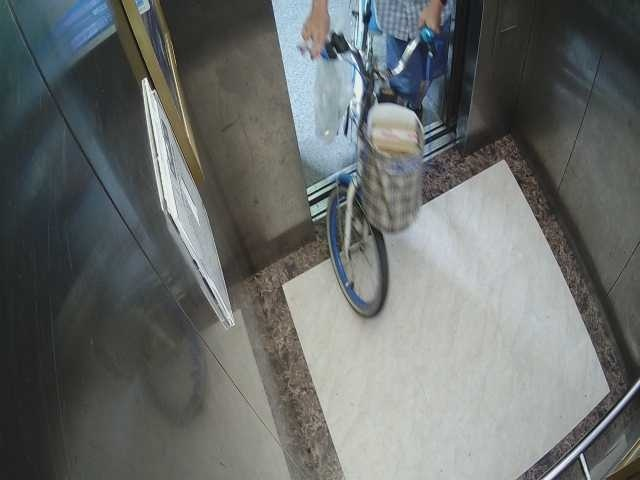bicycle: (288, 3, 433, 315)
